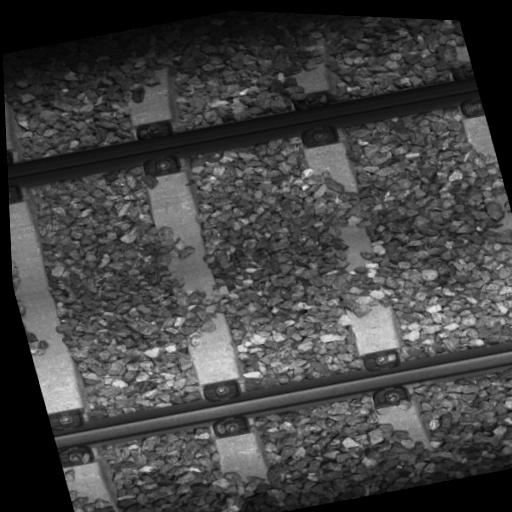sleeper: (108, 63, 284, 492), (268, 35, 436, 461), (4, 96, 122, 512), (430, 19, 512, 429)
